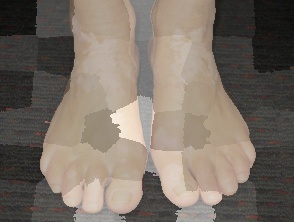vitiligo: (147, 0, 261, 214), (38, 0, 148, 216)
